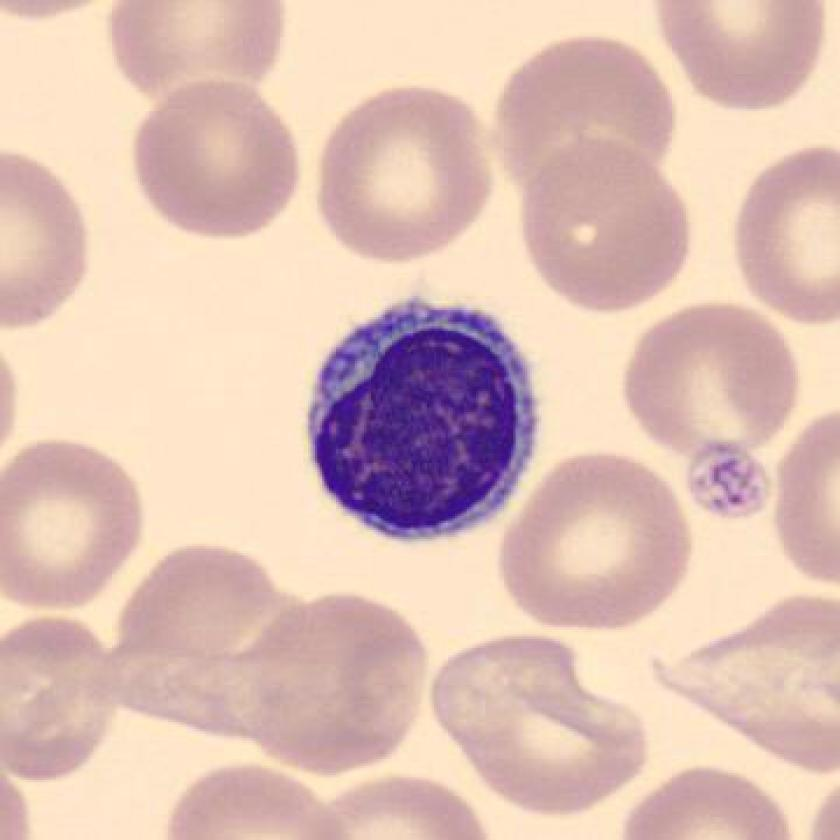lymphocyte: (290, 283, 552, 559)
platelets: (685, 432, 775, 527)
